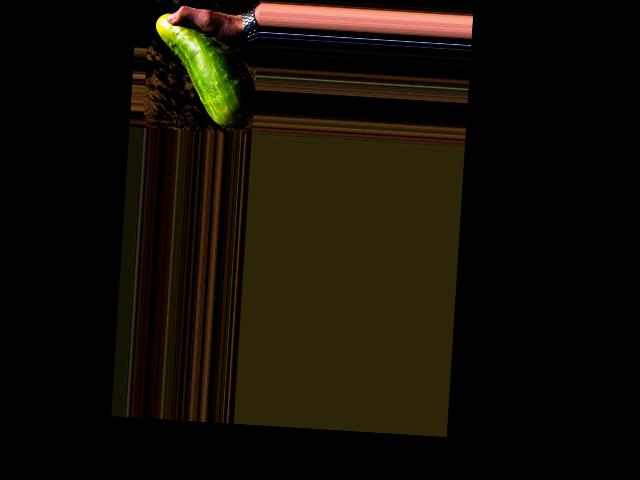cucumber: (150, 12, 260, 130)
